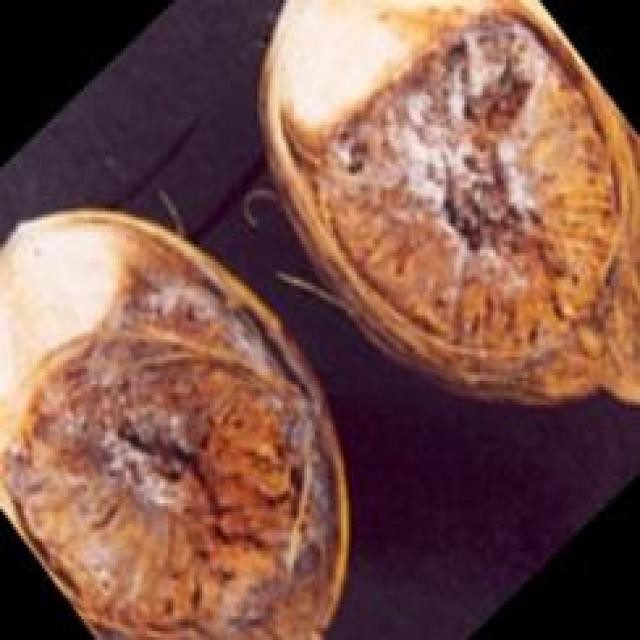damaged: (262, 0, 637, 402), (0, 208, 346, 637)
